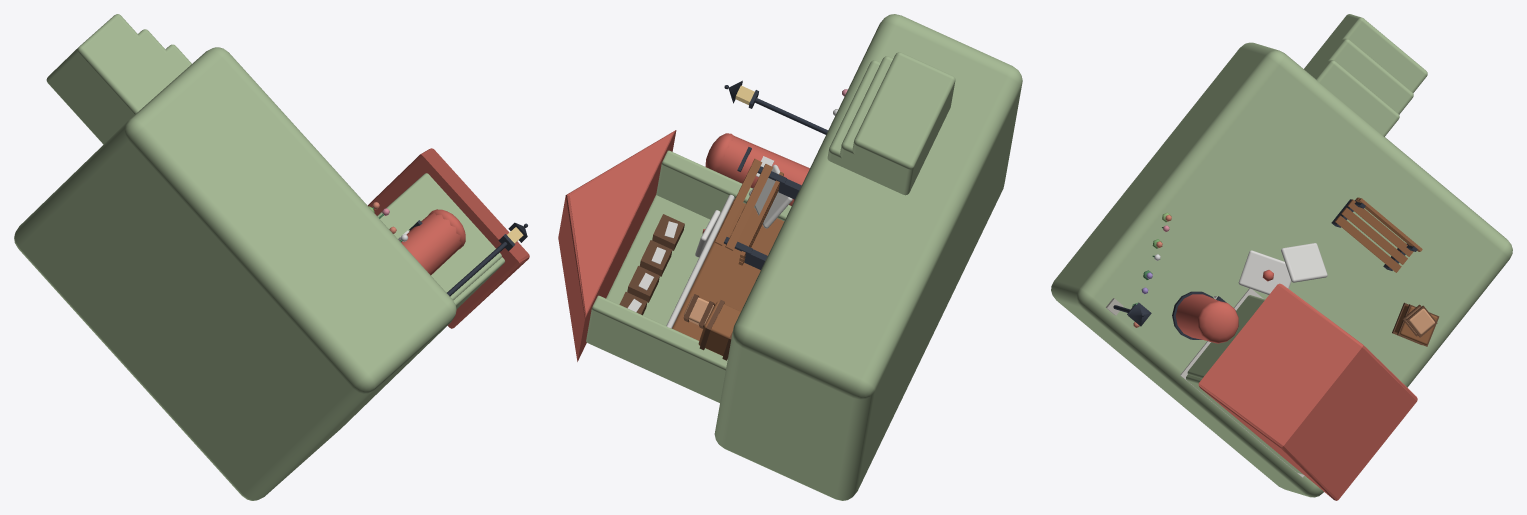
Rendered from station-contact.glb.
The picture shows the model from 3 angles, left to right: view 1: azimuth 30°, elevation 25°; view 2: azimuth 150°, elevation 25°; view 3: azimuth 270°, elevation 25°; orthographic projection. The views are drawn at different scales.
Parts seen in each view (by area): view 1: contact; view 2: contact; view 3: contact.
Boxes of the visible parts, bbox=[...] form: contact: bbox=[14, 14, 529, 500]; contact: bbox=[558, 14, 1022, 500]; contact: bbox=[1051, 14, 1512, 500].
Bounding box in the file's own units: 3.2 × 3.47 × 3.39.
